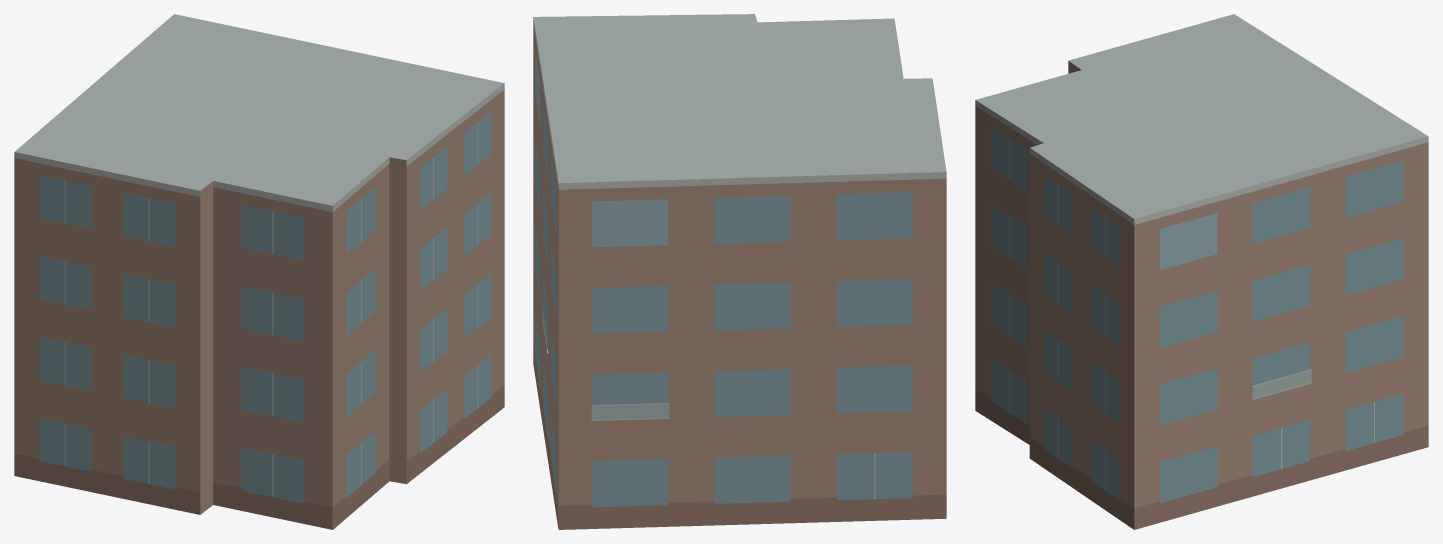
File: survey-upis-32625521.glb
3 renders of one model, left to right at view 1: azimuth 30°, elevation 25°; view 2: azimuth 150°, elevation 25°; view 3: azimuth 270°, elevation 25°, orthographic. The views are drawn at different scales.
Parts seen in each view (by area): view 1: survey-upis-32625521.tmp; view 2: survey-upis-32625521.tmp; view 3: survey-upis-32625521.tmp.
Part boxes in pixels (x1,y1,x2,y2): survey-upis-32625521.tmp: (14,14,504,529); survey-upis-32625521.tmp: (533,14,946,529); survey-upis-32625521.tmp: (975,14,1428,529).
Bounding box in the file's own units: 18.13 × 12.8 × 16.93.
